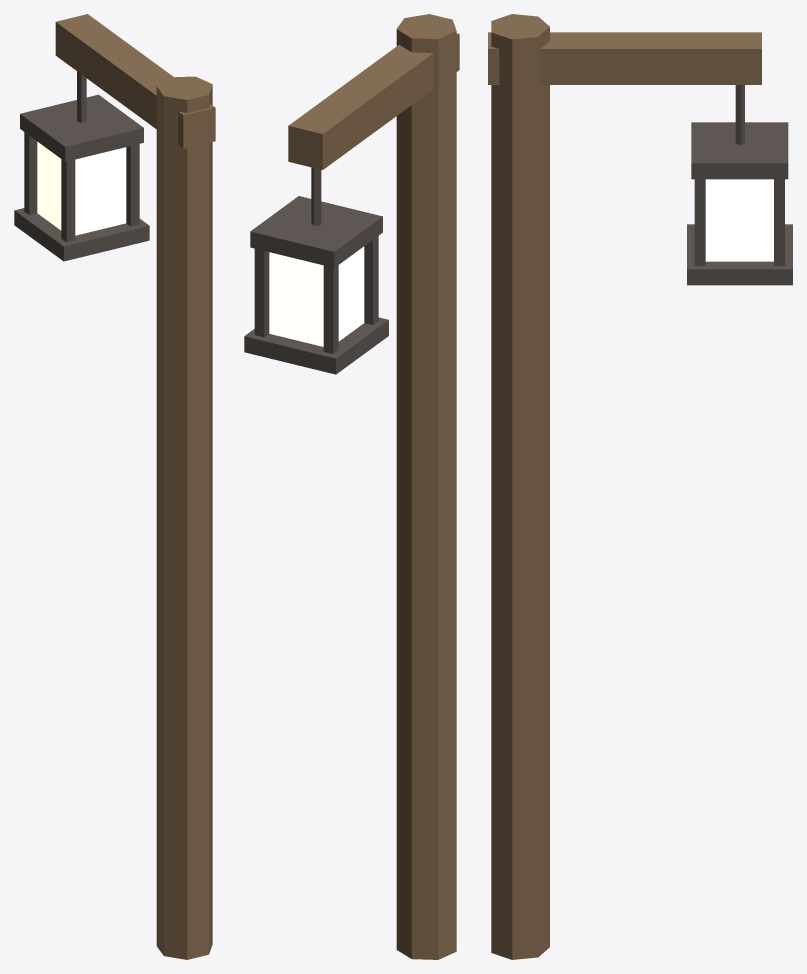
File: lantern_post.glb
3 renders of one model, left to right at view 1: azimuth 30°, elevation 25°; view 2: azimuth 150°, elevation 25°; view 3: azimuth 270°, elevation 25°, orthographic. The views are drawn at different scales.
Parts seen in each view (by area): view 1: lantern_post; view 2: lantern_post; view 3: lantern_post.
Part boxes in pixels (<box>): lantern_post: <box>14,14,215,959</box>; lantern_post: <box>244,14,459,959</box>; lantern_post: <box>488,14,792,959</box>.
Bounding box in the file's own units: 0.24 × 2.3 × 0.69.
